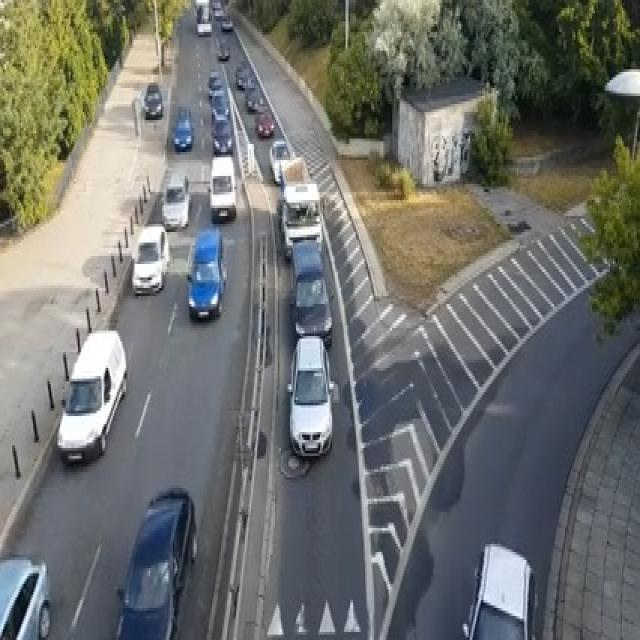car: (114, 486, 197, 638), (56, 328, 126, 464), (461, 542, 538, 638), (286, 333, 334, 459), (288, 240, 332, 344), (0, 552, 51, 637), (186, 224, 227, 320), (280, 181, 322, 259), (130, 224, 170, 293), (209, 155, 236, 221), (161, 171, 189, 229), (210, 112, 233, 155), (173, 104, 194, 149), (269, 139, 290, 184), (141, 83, 164, 117), (210, 88, 228, 117), (254, 109, 273, 136), (234, 59, 250, 88), (208, 69, 222, 99), (215, 34, 230, 59), (212, 0, 222, 19), (221, 16, 233, 29)
truck: (194, 0, 212, 35)
